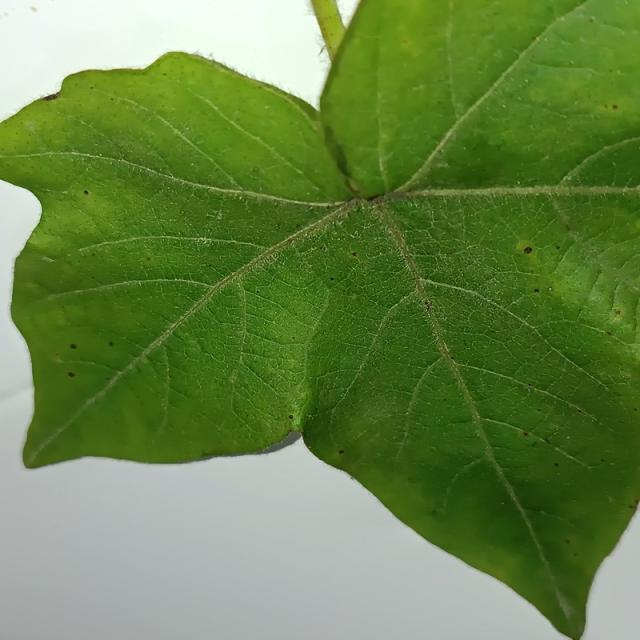Bacterial_Blight: (60, 323, 133, 385), (515, 237, 567, 301), (59, 303, 96, 326), (398, 35, 425, 59), (325, 448, 346, 464), (521, 240, 535, 260), (528, 87, 546, 102), (612, 309, 623, 321), (604, 103, 619, 110), (423, 300, 431, 311), (287, 236, 296, 244), (251, 167, 259, 174), (67, 371, 75, 377), (628, 503, 636, 509), (350, 251, 357, 257), (108, 341, 114, 347), (321, 246, 327, 252), (431, 509, 437, 515), (70, 344, 77, 349), (615, 310, 621, 315), (83, 190, 89, 195), (338, 450, 344, 455), (523, 431, 528, 436), (288, 414, 293, 419), (565, 539, 570, 544), (91, 252, 96, 257), (607, 331, 612, 336), (329, 277, 335, 281), (146, 257, 151, 261), (291, 336, 295, 340)
Cotton: (0, 0, 639, 639)
